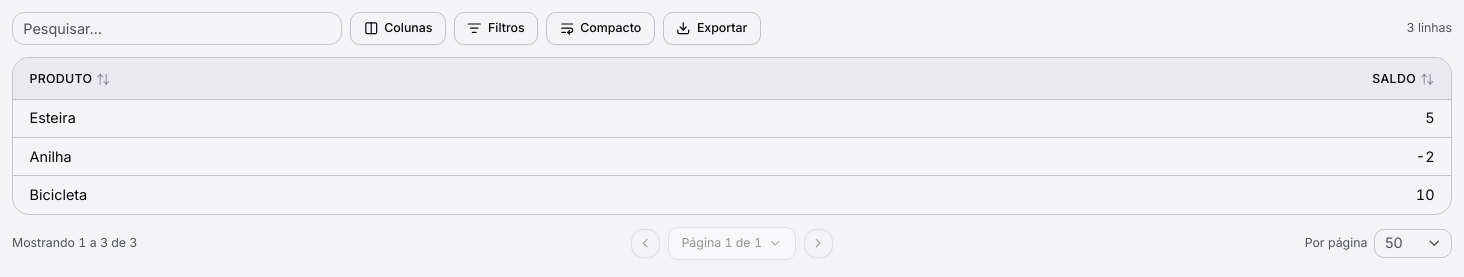
DataTable busca (c2) › filtra por número convertido para string
This screenshot has width=1464, height=277.
Type "10" into the field with placeholder "Pesquisar…".
click(177, 28); type("10")  # box 12,12 -> 342,45
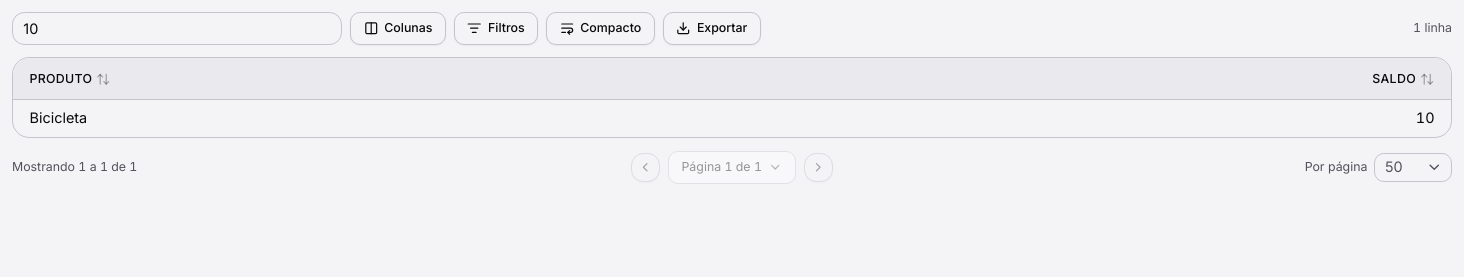
Result: the text "Bicicleta" is shown at 13,100 -> 798,137
Result: the text "Esteira" is gone
Result: the text "Anilha" is gone
